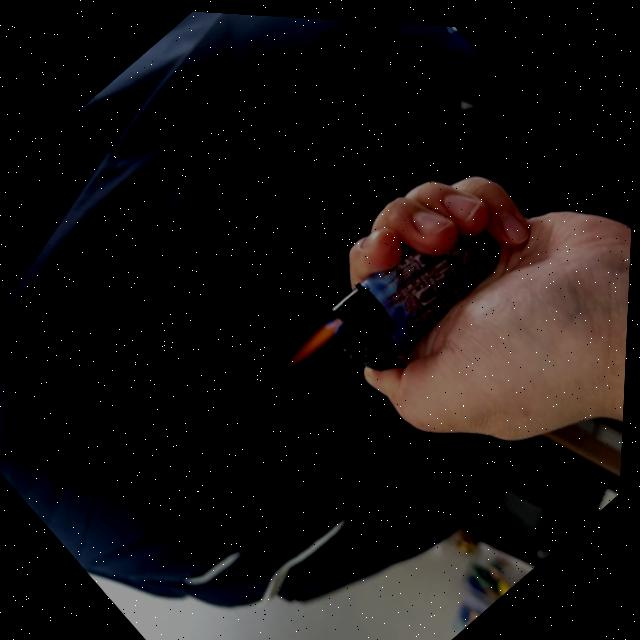Fire: (275, 304, 350, 379)
